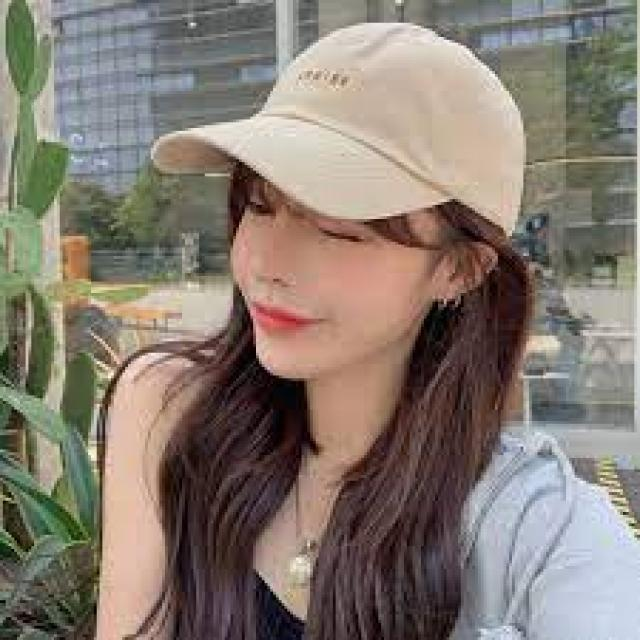cap: (138, 6, 553, 275)
